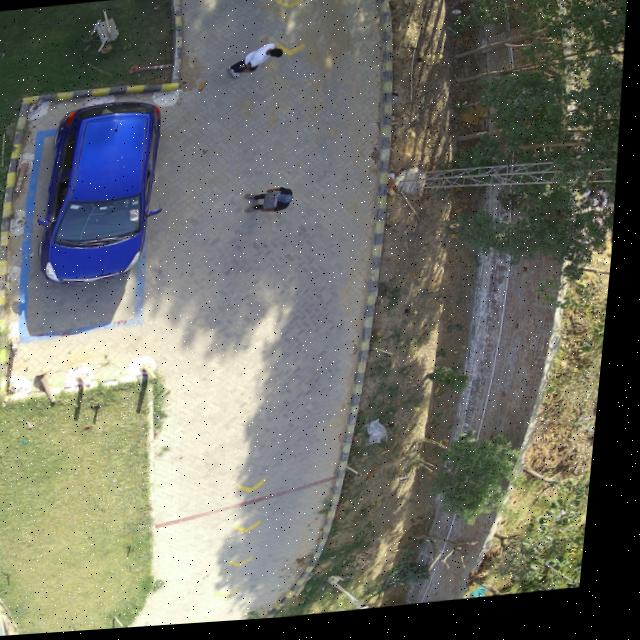car: (41, 103, 163, 285)
